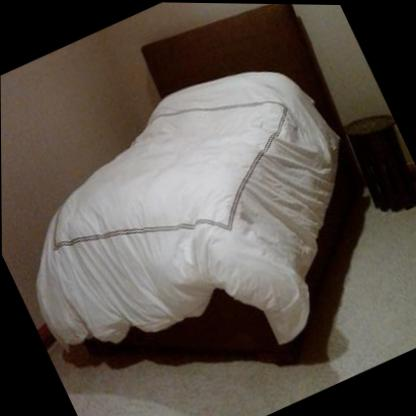Bed: (42, 3, 363, 363)
